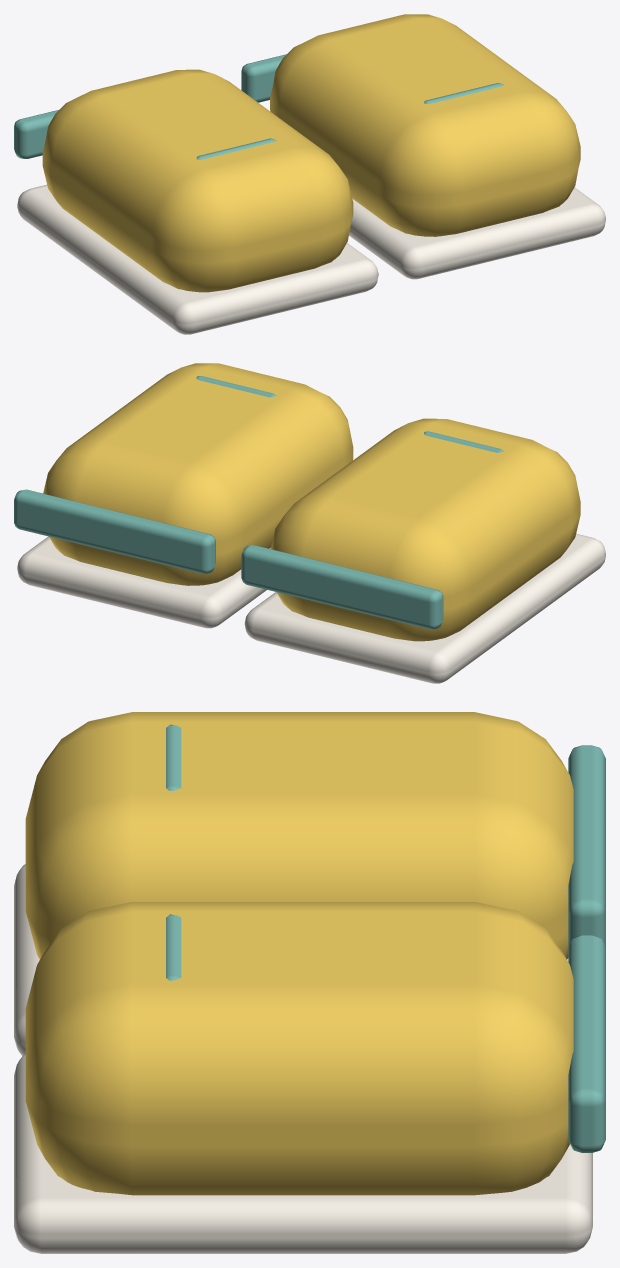
File: leaf_egg_shoes.glb
The picture shows the model from 3 angles, top to bottom: view 1: azimuth 30°, elevation 25°; view 2: azimuth 150°, elevation 25°; view 3: azimuth 270°, elevation 25°; orthographic projection. The views are drawn at different scales.
Visible parts, largest first — view 1: leaf_egg_shoes_LegL, leaf_egg_shoes_LegR; view 2: leaf_egg_shoes_LegL, leaf_egg_shoes_LegR; view 3: leaf_egg_shoes_LegR, leaf_egg_shoes_LegL.
Boxes of the visible parts, x1,y1,x2,y2 form: leaf_egg_shoes_LegL: [14, 69, 378, 334]; leaf_egg_shoes_LegR: [241, 14, 605, 279]; leaf_egg_shoes_LegL: [241, 418, 605, 683]; leaf_egg_shoes_LegR: [14, 363, 353, 628]; leaf_egg_shoes_LegR: [14, 902, 605, 1253]; leaf_egg_shoes_LegL: [14, 712, 605, 1055].
Bounding box in the file's own units: 0.36 × 0.1087 × 0.2505.
